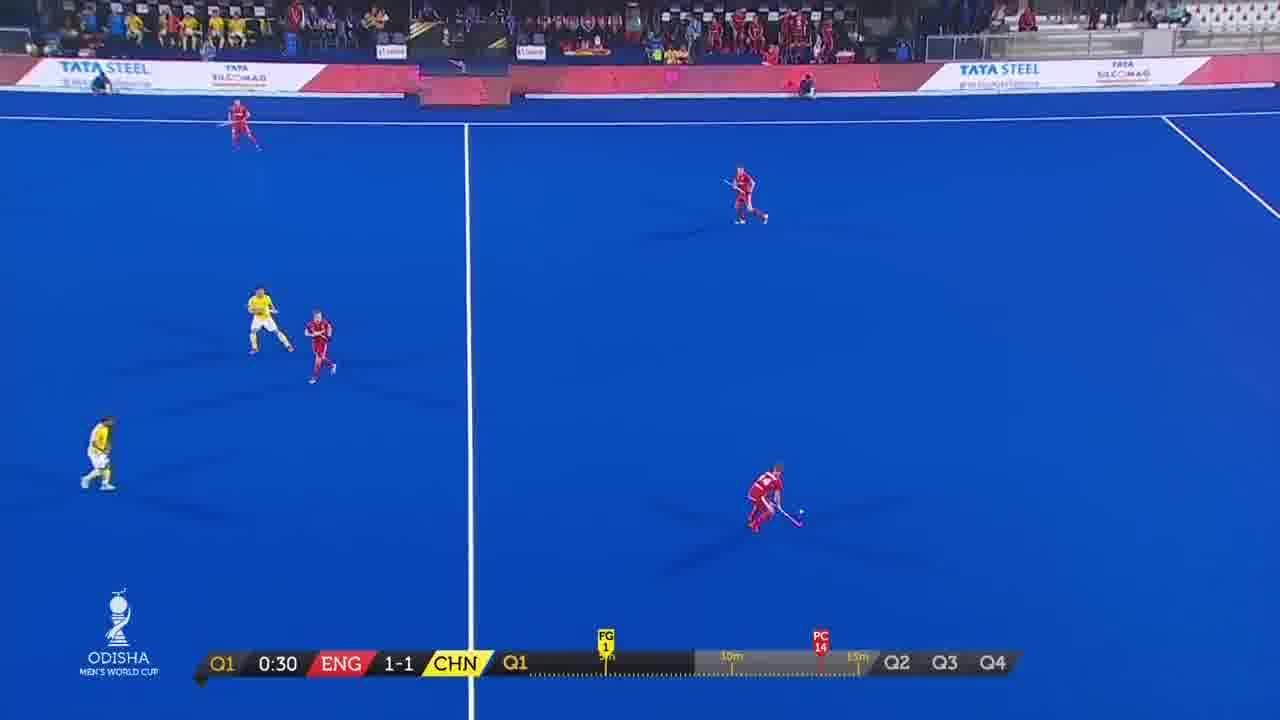ball: (794, 507, 812, 518)
